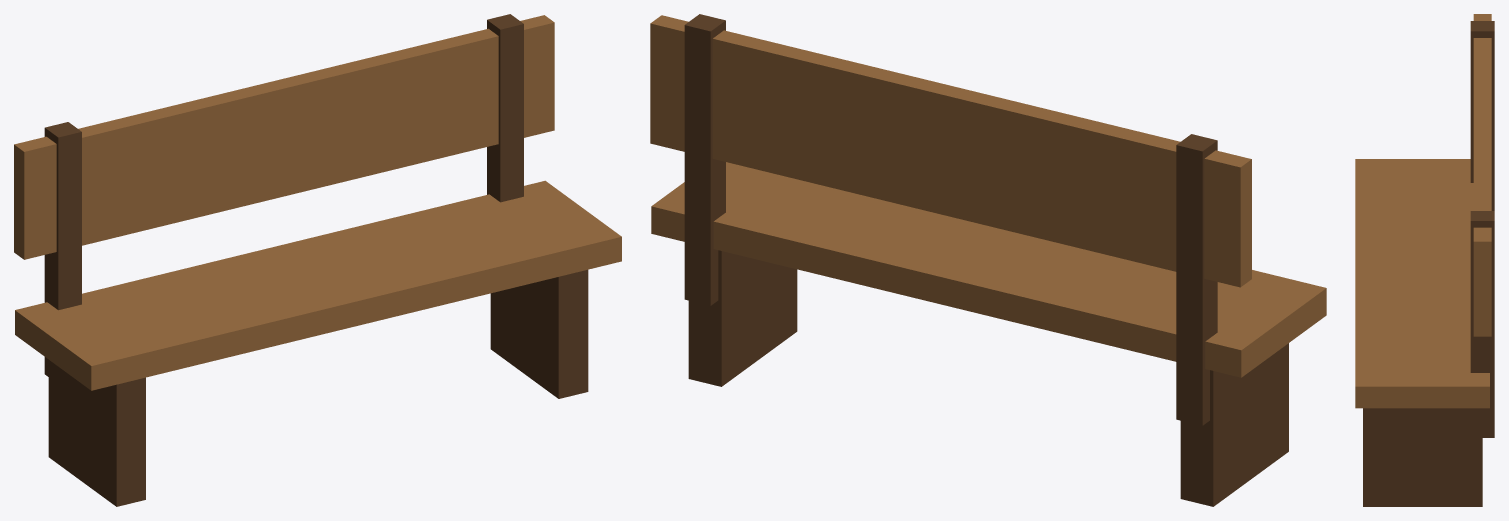
File: bench_2.glb
The picture shows the model from 3 angles, left to right: view 1: azimuth 30°, elevation 25°; view 2: azimuth 150°, elevation 25°; view 3: azimuth 270°, elevation 25°; orthographic projection. The views are drawn at different scales.
Visible parts, largest first — view 1: bench_2; view 2: bench_2; view 3: bench_2.
Boxes of the visible parts, x1,y1,x2,y2 form: bench_2: (14,14,621,506); bench_2: (650,14,1326,506); bench_2: (1355,14,1494,506).
Size of what is drawn, in the model's own units: 1.8 by 1.05 by 0.465.
